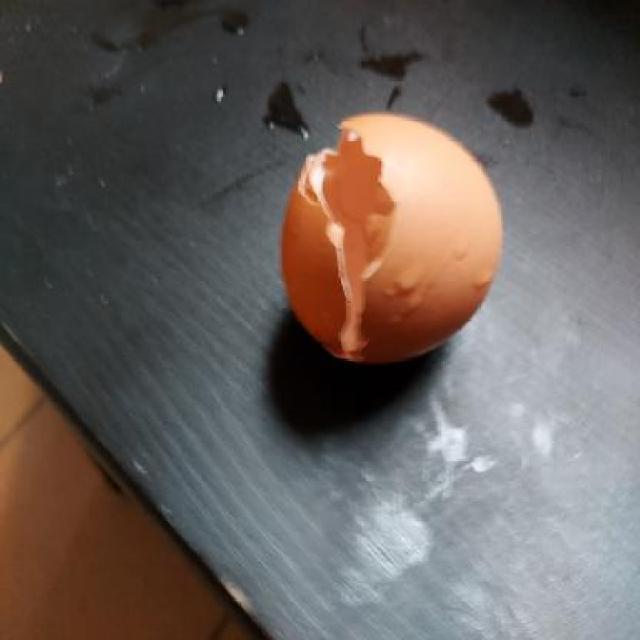biodegradable: (278, 111, 504, 364)
